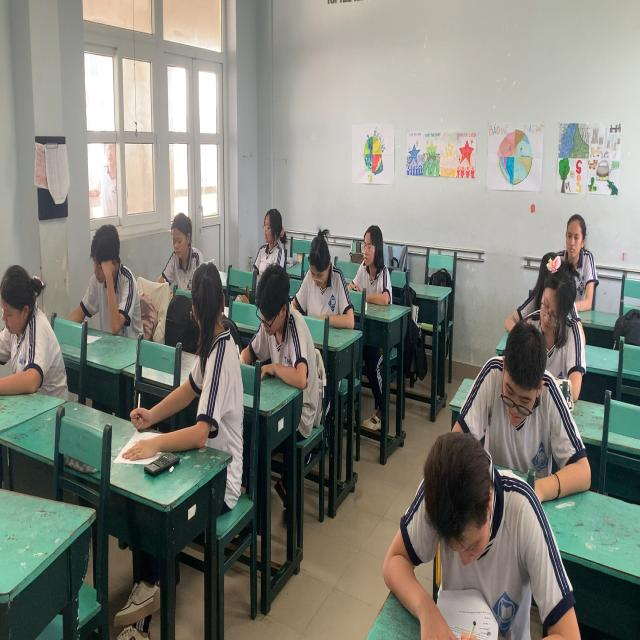cheating: (180, 264, 244, 444)
not_cheating: (382, 434, 520, 627), (478, 326, 570, 471), (513, 247, 585, 402), (0, 247, 58, 399), (77, 222, 146, 344), (253, 261, 309, 388), (301, 216, 356, 341), (350, 219, 390, 316), (558, 212, 598, 309), (161, 198, 208, 278), (251, 208, 291, 274)
